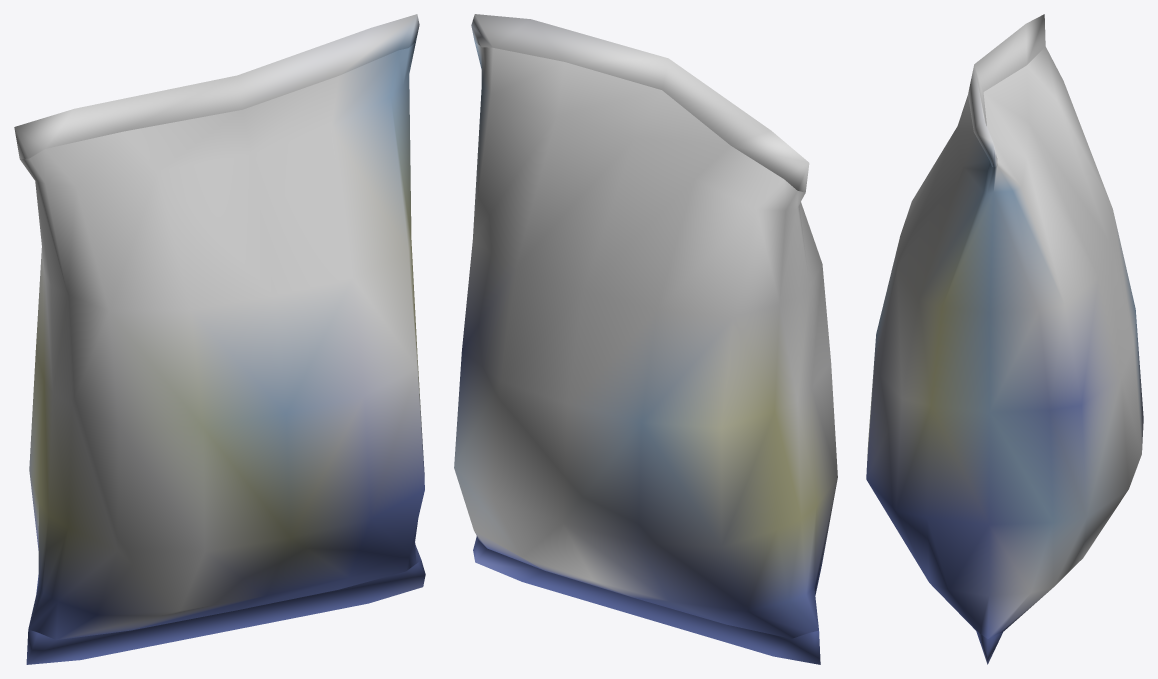
Rendered from Chips02.fbx.
3 renders of one model, left to right at view 1: azimuth 30°, elevation 25°; view 2: azimuth 150°, elevation 25°; view 3: azimuth 270°, elevation 25°, orthographic. The views are drawn at different scales.
Parts seen in each view (by area): view 1: Paquet_Chips; view 2: Paquet_Chips; view 3: Paquet_Chips.
Boxes of the visible parts, <box> form: Paquet_Chips: <box>14,14,425,664</box>; Paquet_Chips: <box>454,14,837,664</box>; Paquet_Chips: <box>866,14,1143,664</box>.
Bounding box in the file's own units: 15.17 × 22.14 × 10.52.
